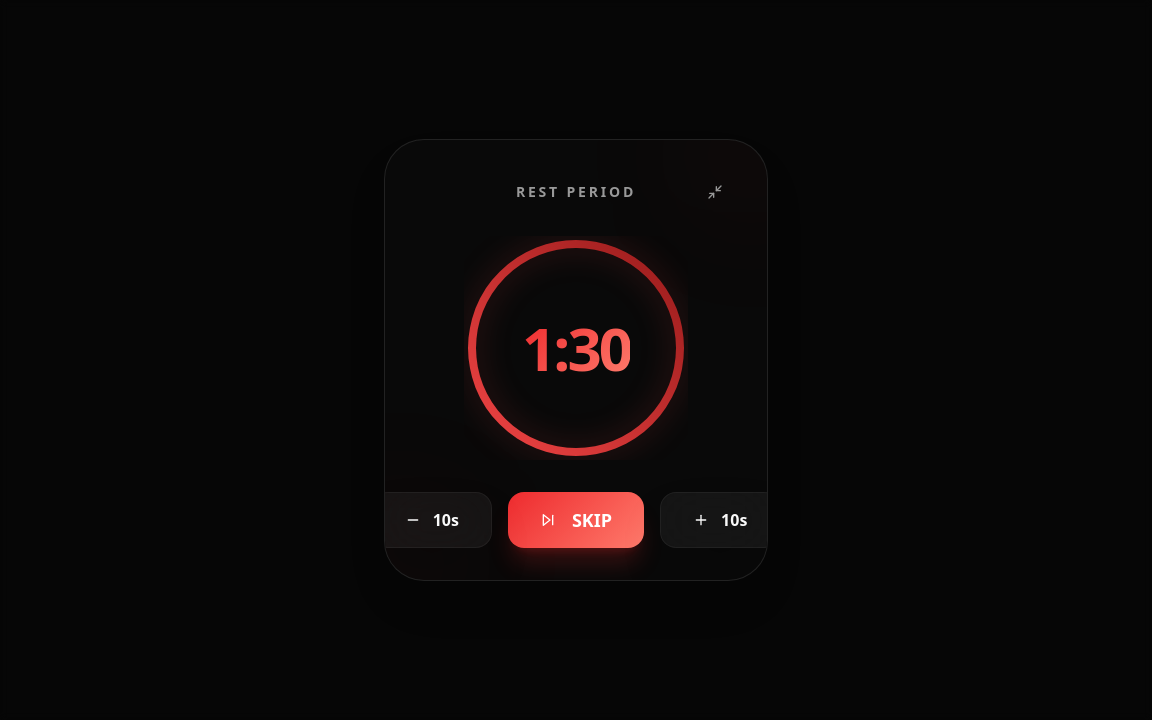
Test: RestTimer - Time Adjustments › increments time by 10 seconds when plus button clicked
Click the 2nd button "10s".
click(720, 520)  # box [660,492,780,548]
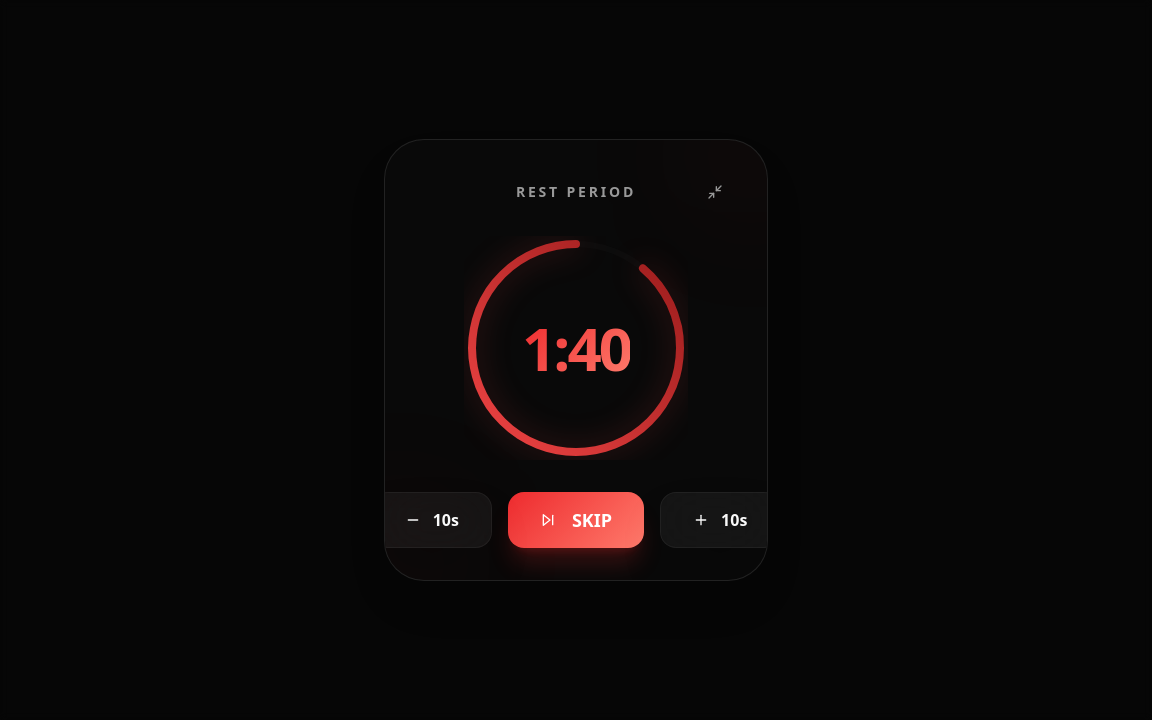
Check: the text "1:40" is shown, box [522,318,630,378]
